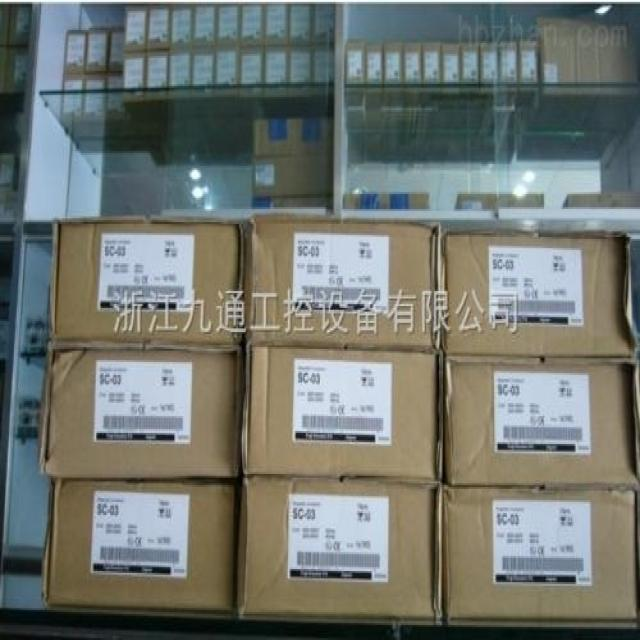box: (234, 479, 443, 619), (39, 347, 241, 480), (244, 215, 440, 351), (243, 346, 442, 478), (42, 479, 236, 613), (49, 217, 245, 348), (445, 358, 638, 489), (444, 489, 639, 618), (442, 233, 638, 356)
